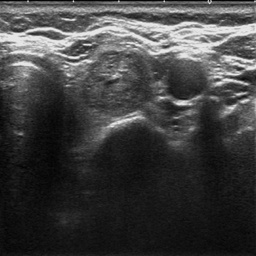mass: (77, 48, 153, 113)
